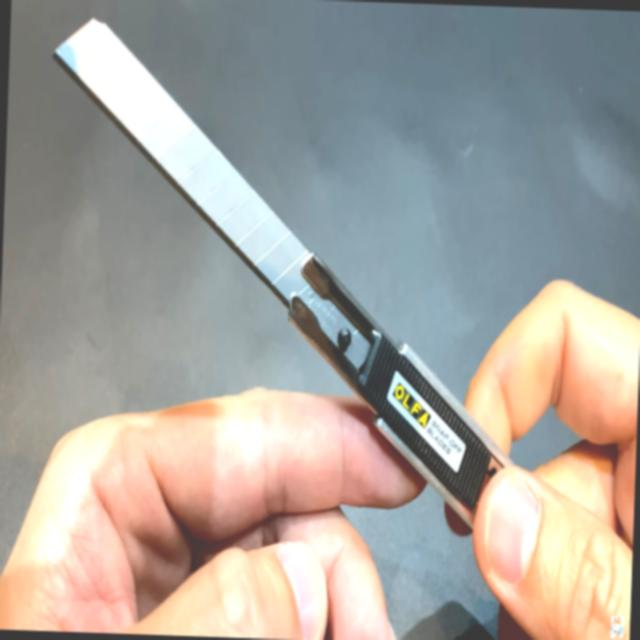cutter: (19, 0, 640, 615)
